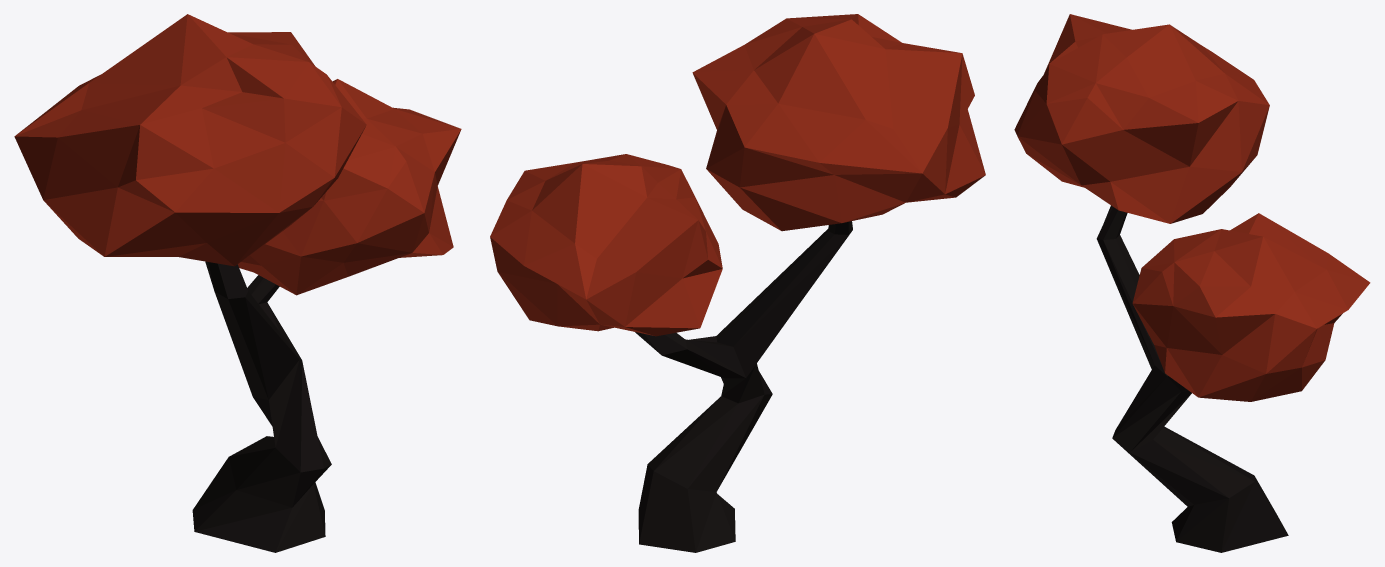
File: KOKS_003.FBX
3 views of the same model, side by side, from view 1: azimuth 30°, elevation 25°; view 2: azimuth 150°, elevation 25°; view 3: azimuth 270°, elevation 25° (orthographic). The views are drawn at different scales.
Visible parts, largest first — view 1: KOKS_003; view 2: KOKS_003; view 3: KOKS_003.
Part boxes in pixels (bbox=[...]): KOKS_003: bbox=[14, 14, 461, 552]; KOKS_003: bbox=[490, 14, 985, 552]; KOKS_003: bbox=[1014, 14, 1370, 552].
Size of the model in its own units: 6423 by 7659 by 5351.
